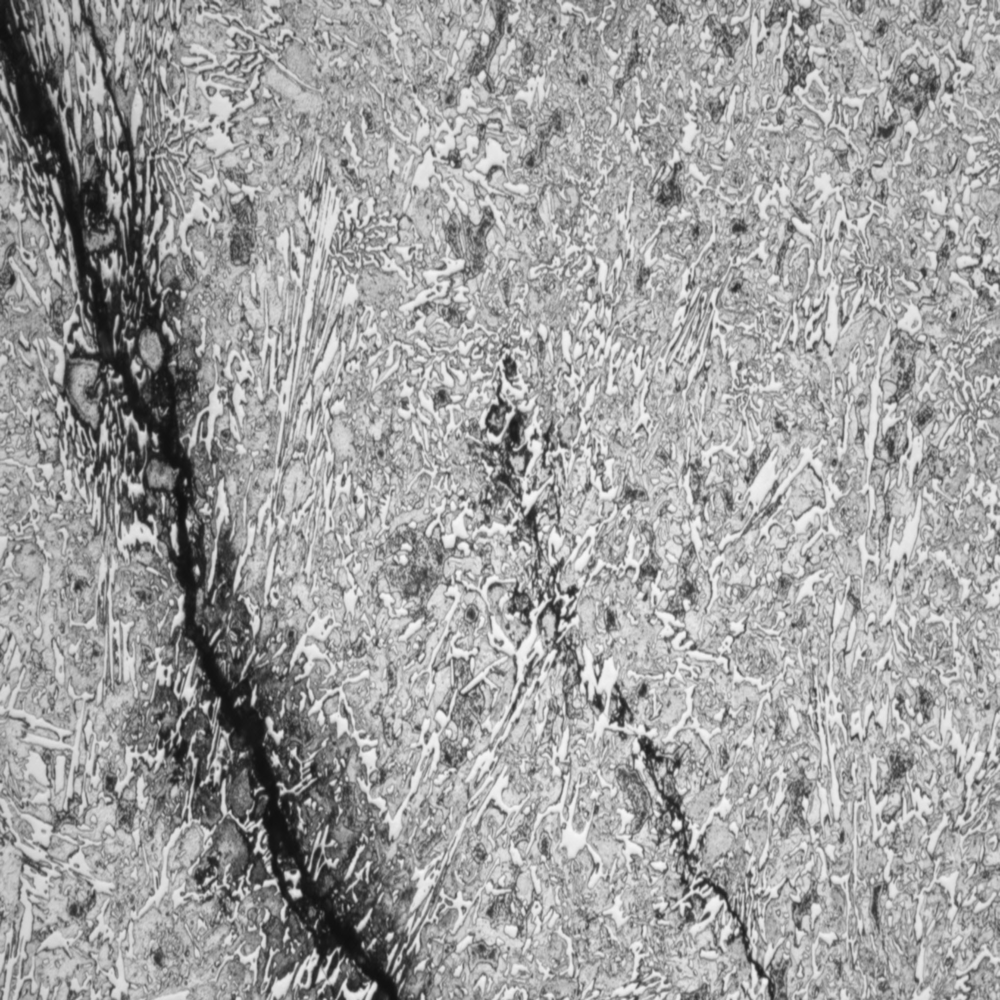crack: (11, 9, 444, 983), (460, 365, 803, 992)
